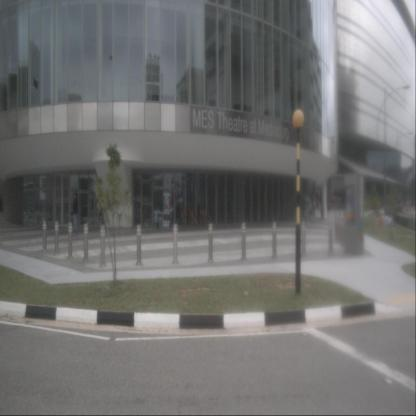cone: (378, 213, 382, 227)
